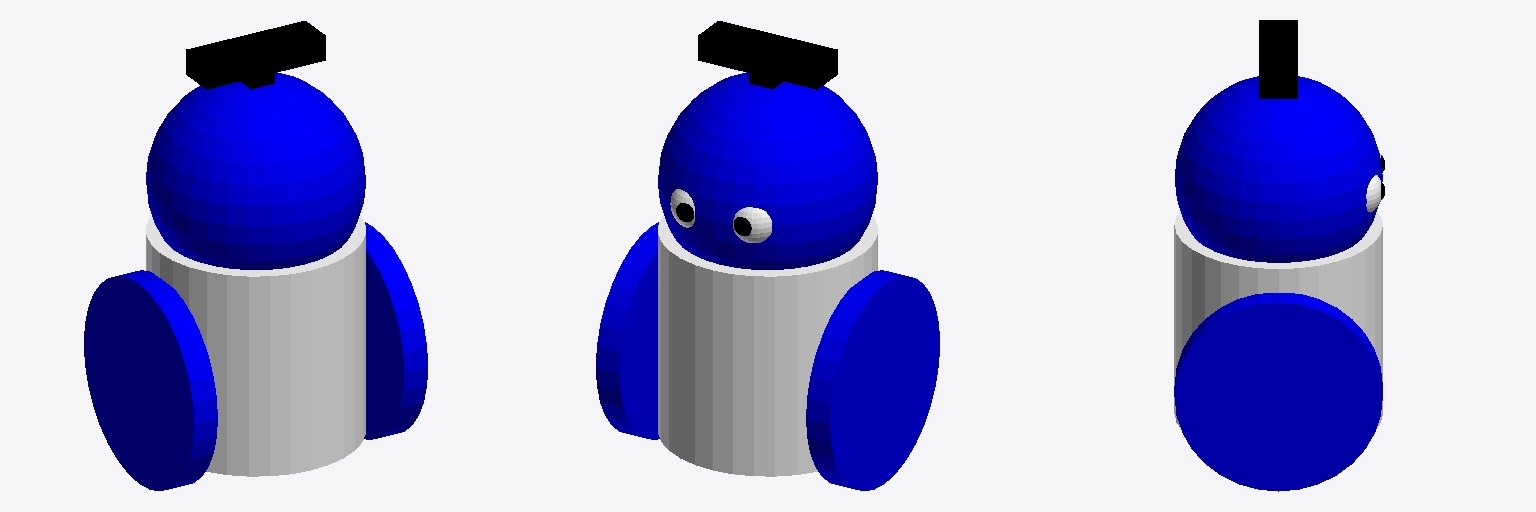
URDF robot description (qbo1):
<?xml version="1.0"?>
<robot name="qbo1">
    
  <link name="base_link">
    <visual>
      <geometry>
        <cylinder length="0.4" radius="0.2"/>
      </geometry>
      <material name="white">
        <color rgba="1 1 1 1"/>
      </material>
    </visual>
  </link>
   
  <link name="model_left_wheel">
    <visual>
      <geometry>
        <cylinder length="0.05" radius="0.2"/>
      </geometry>
      <origin rpy="0 1.57075 0" xyz="0 0 -0.3"/>
      <material name="blue">
        <color rgba="0 0 1 1"/>
      </material>
    </visual>
  </link>
   
  <link name="model_right_wheel">
    <visual>
      <geometry>
        <cylinder length="0.05" radius="0.2"/>
      </geometry>
      <origin rpy="0 1.57075 0" xyz="0 0 -0.3"/>
      <material name="blue">
        <color rgba="0 0 1 1"/>
      </material>
    </visual>
  </link>

  <link name="head">
    <visual>
      <geometry>
        <sphere radius="0.2"/>
      </geometry>
      <origin rpy="0 0 0" xyz="0 0 0"/>
      <material name="blue">
        <color rgba="0 0 1 1"/>
      </material>
    </visual>
  </link>

  <link name="model_xtion">
    <visual>
      <geometry>
        <box size="0.25 0.075 0.05"/>
      </geometry>
      <origin rpy="0 0 0" xyz="0 0 0.0"/>
      <material name="black">
        <color rgba="0 0 0 1"/>
      </material>
    </visual>
  </link>

  <link name="model_xtion_stork">
    <visual>
      <geometry>
        <box size="0.05 0.05 0.1"/>
      </geometry>
      <origin rpy="0 0 0" xyz="0 0 0.0"/>
      <material name="black">
        <color rgba="0 0 0 1"/>
      </material>
    </visual>
  </link>

  <link name="model_left_eye">
    <visual>
      <geometry>
        <sphere radius="0.05"/>
      </geometry>
      <origin rpy="0 0 0" xyz="0 0 0.0"/>
      <material name="white">
        <color rgba="1 1 1 1"/>
      </material>
    </visual>
  </link>


  <link name="model_right_eye">
    <visual>
      <geometry>
        <sphere radius="0.05"/>
      </geometry>
      <origin rpy="0 0 0" xyz="0 0 0.0"/>
      <material name="white">
        <color rgba="1 1 1 1"/>
      </material>
    </visual>
  </link>


  <link name="model_left_pupil">
    <visual>
      <geometry>
        <sphere radius="0.025"/>
      </geometry>
      <origin rpy="0 0 0" xyz="0 0 0.0"/>
      <material name="black">
        <color rgba="0 0 0 1"/>
      </material>
    </visual>
  </link>


  <link name="model_right_pupil">
    <visual>
      <geometry>
        <sphere radius="0.025"/>
      </geometry>
      <origin rpy="0 0 0" xyz="0 0 0.0"/>
      <material name="black">
        <color rgba="0 0 0 1"/>
      </material>
    </visual>
  </link>



  <joint name="model_base_to_right_wheel" type="fixed">
    <parent link="base_link"/>
    <child link="model_right_wheel"/>
    <origin xyz="0.22 0 .25"/>
  </joint>


  <joint name="model_base_to_left_wheel" type="fixed">
    <parent link="base_link"/>
    <child link="model_left_wheel"/>
    <origin xyz="-0.22 0 .25"/>
  </joint>


  <joint name="model_base_to_head" type="fixed">
    <parent link="base_link"/>
    <child link="head"/>
    <origin xyz="0 0 0.3"/>
  </joint>


  <joint name="model_head_to_xtion" type="fixed">
    <parent link="head"/>
    <child link="model_xtion"/>
    <origin xyz="0 0 0.25"/>
  </joint>

  <joint name="model_head_to_xtion_stork" type="fixed">
    <parent link="head"/>
    <child link="model_xtion_stork"/>
    <origin xyz="0 0 0.2"/>
  </joint>

  <joint name="model_base_to_left_eye" type="fixed">
    <parent link="head"/>
    <child link="model_left_eye"/>
    <origin xyz="-0.06 0.15 0.0"/>
  </joint>

  <joint name="model_base_to_right_eye" type="fixed">
    <parent link="head"/>
    <child link="model_right_eye"/>
    <origin xyz="0.06 0.15 0.0"/>
  </joint>

  <joint name="model_right_eye_to_pupil" type="fixed">
    <parent link="model_right_eye"/>
    <child link="model_right_pupil"/>
    <origin xyz="0 0.03 0.0"/>
  </joint>

  <joint name="model_left_eye_to_pupil" type="fixed">
    <parent link="model_left_eye"/>
    <child link="model_left_pupil"/>
    <origin xyz="0 0.03 0.0"/>
  </joint>



</robot>












<!--    hello -->

--- Facts derived from the render (not from the file) ---
3 views of the same robot in one strip: view 1: azimuth 30°, elevation 25°; view 2: azimuth 150°, elevation 25°; view 3: azimuth 270°, elevation 25° (orthographic).
Model qbo1 with 10 links and 9 joints (9 fixed), rooted at base_link, posed every joint at zero.
Visible links, largest first — view 1: base_link, head, model_left_wheel, model_right_wheel, model_xtion; view 2: base_link, head, model_left_wheel, model_right_wheel, model_xtion, model_left_eye; view 3: model_right_wheel, head, base_link, model_xtion.
Link boxes in pixels (x1,y1,x2,y2): base_link: [146, 215, 365, 476]; head: [146, 72, 365, 269]; model_left_wheel: [84, 270, 217, 490]; model_right_wheel: [364, 222, 427, 439]; model_xtion: [186, 21, 325, 89]; base_link: [658, 215, 877, 476]; head: [658, 72, 877, 269]; model_left_wheel: [806, 270, 939, 490]; model_right_wheel: [596, 222, 659, 439]; model_xtion: [698, 21, 837, 89]; model_left_eye: [733, 207, 771, 242]; model_right_wheel: [1174, 293, 1382, 491]; head: [1175, 76, 1382, 262]; base_link: [1174, 211, 1382, 427]; model_xtion: [1259, 20, 1297, 98].
Bounding box of the posed robot: 0.49 × 0.405 × 0.825 m (x, y, z).
Geometry: primitives only (box / cylinder / sphere), no mesh files.